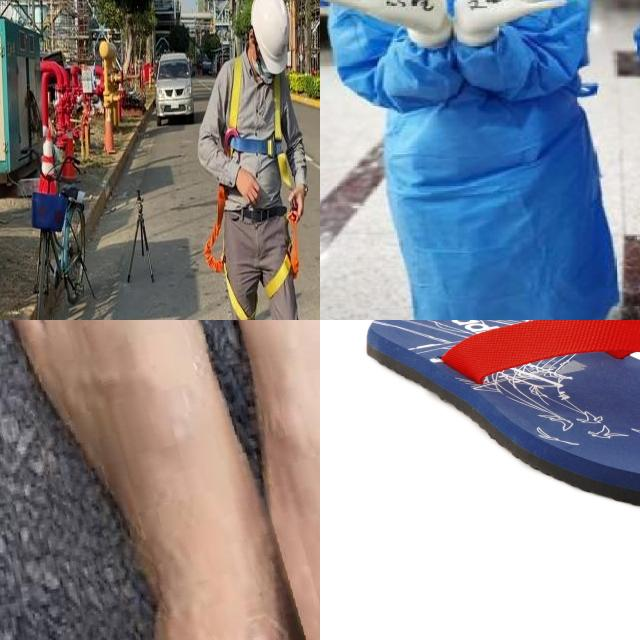Barefoots: (0, 320, 296, 640), (184, 320, 320, 640)
Harness: (225, 56, 295, 188), (204, 186, 255, 320), (265, 213, 300, 300)
Sandals: (364, 320, 640, 517)
hand_glove: (439, 0, 580, 29), (320, 0, 449, 31)
person: (320, 0, 636, 320)
